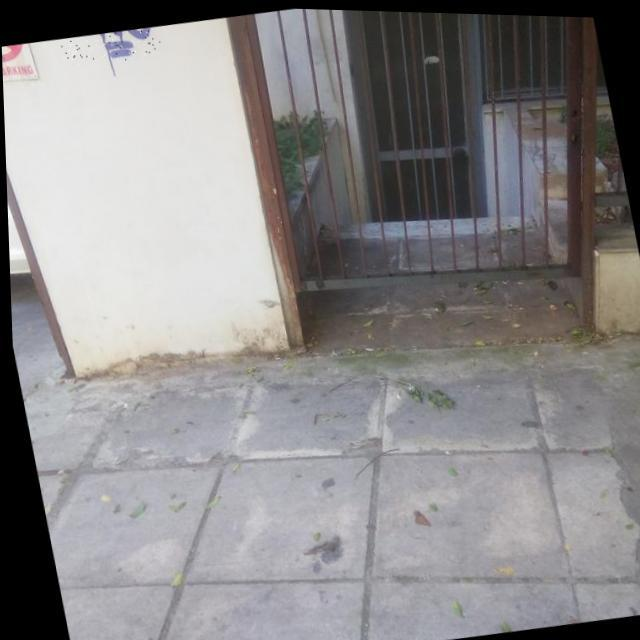-: (59, 24, 162, 70)
